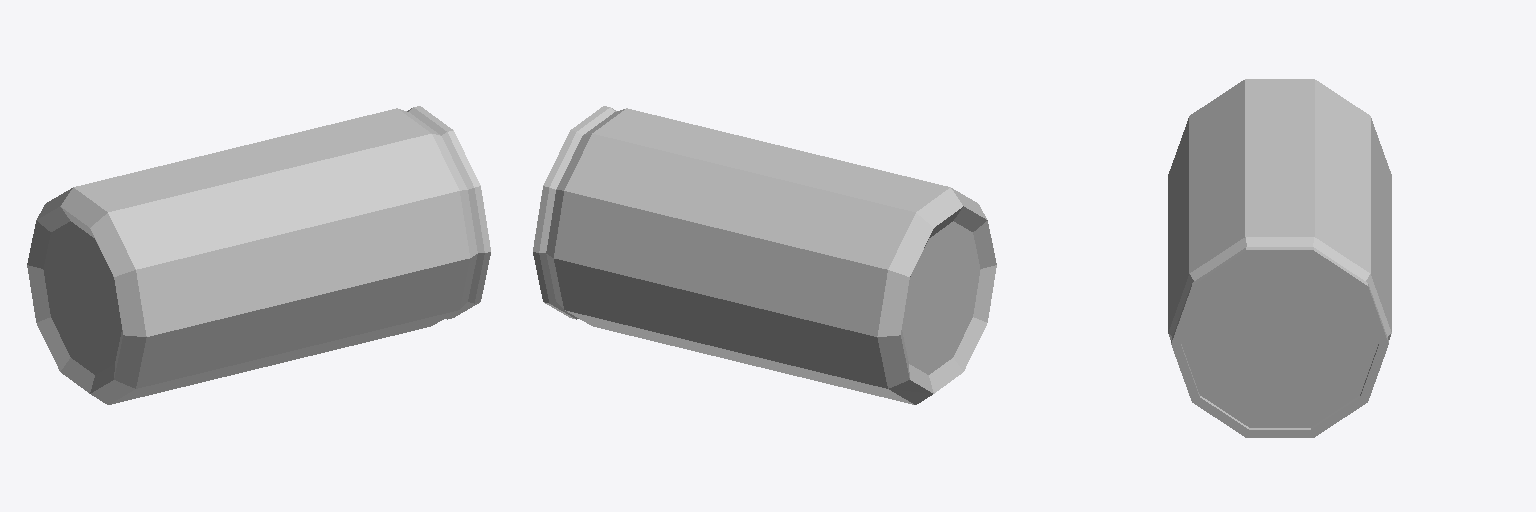
File: can.obj
3 views of the same model, side by side, from view 1: azimuth 30°, elevation 25°; view 2: azimuth 150°, elevation 25°; view 3: azimuth 270°, elevation 25° (orthographic).
Parts seen in each view (by area): view 1: can; view 2: can; view 3: can.
Boxes of the visible parts, x1=… form: can: x1=27, y1=106, x2=490, y2=404; can: x1=533, y1=106, x2=996, y2=404; can: x1=1168, y1=79, x2=1391, y2=437.
Bounding box in the file's own units: 0.142 × 0.0723 × 0.0761.